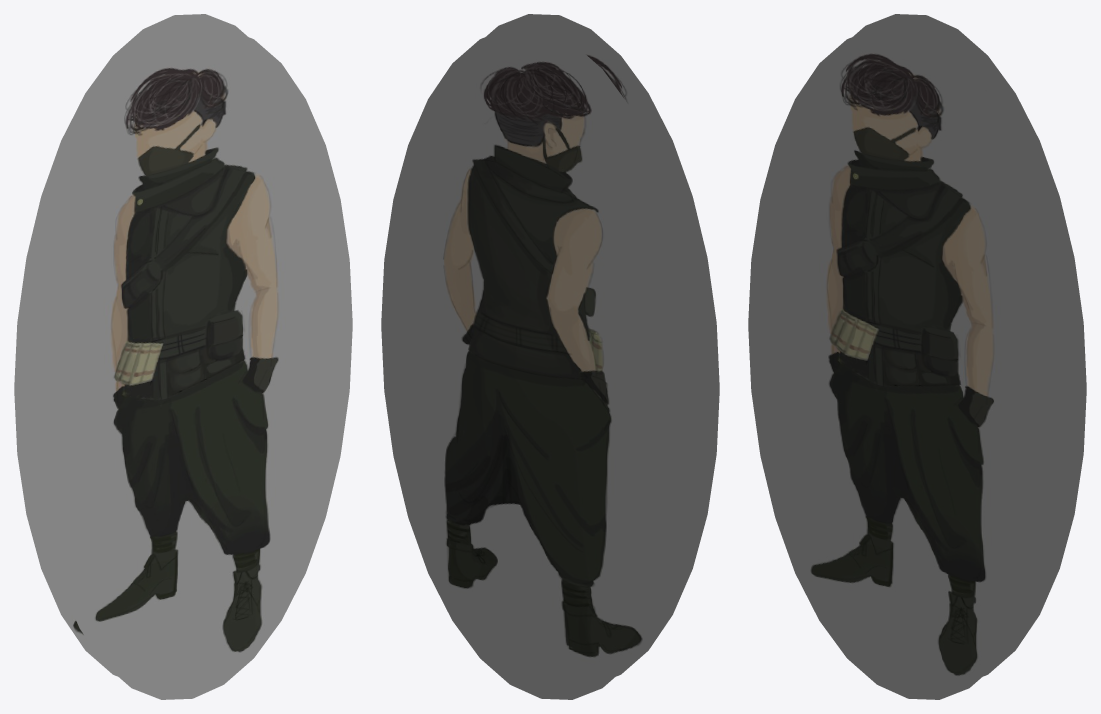
File: Man.fbx
The picture shows the model from 3 angles, left to right: view 1: azimuth 30°, elevation 25°; view 2: azimuth 150°, elevation 25°; view 3: azimuth 330°, elevation 25°; orthographic projection.
Parts seen in each view (by area): view 1: Man; view 2: Man; view 3: Man.
Boxes of the visible parts, <box> form: Man: <box>14,14,352,699</box>; Man: <box>381,14,719,699</box>; Man: <box>748,14,1086,699</box>.
Size of the model in its own units: 100 by 200 by 10.
